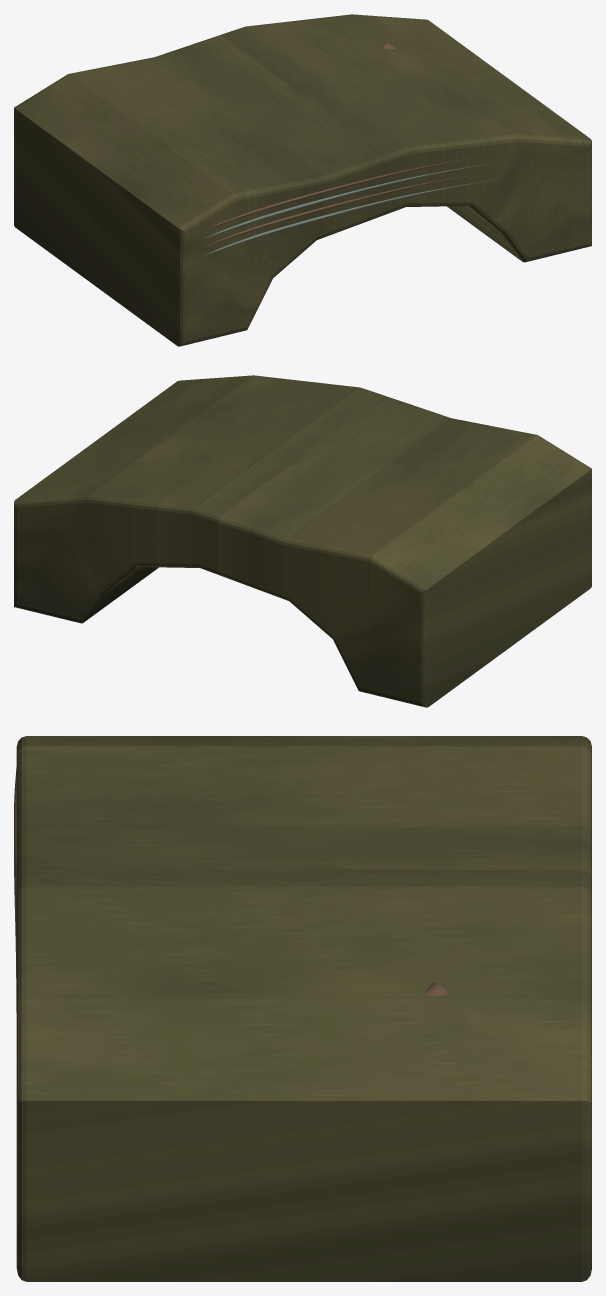
File: bellroot-fen-floodward-marches-undercut-peat-shelf-8bdb5b4e__32919.glb
3 renders of one model, top to bottom at view 1: azimuth 30°, elevation 25°; view 2: azimuth 150°, elevation 25°; view 3: azimuth 270°, elevation 25°, orthographic. The views are drawn at different scales.
Parts seen in each view (by area): view 1: undercut-peat-shelf; view 2: undercut-peat-shelf; view 3: undercut-peat-shelf.
Part boxes in pixels (box(x1,y1,x2,y2)): undercut-peat-shelf: box(14, 14, 591, 346); undercut-peat-shelf: box(14, 375, 591, 707); undercut-peat-shelf: box(14, 736, 591, 1281).
Bounding box in the file's own units: 4.1 × 1.36 × 2.91.
3 materials, 3 textured.
